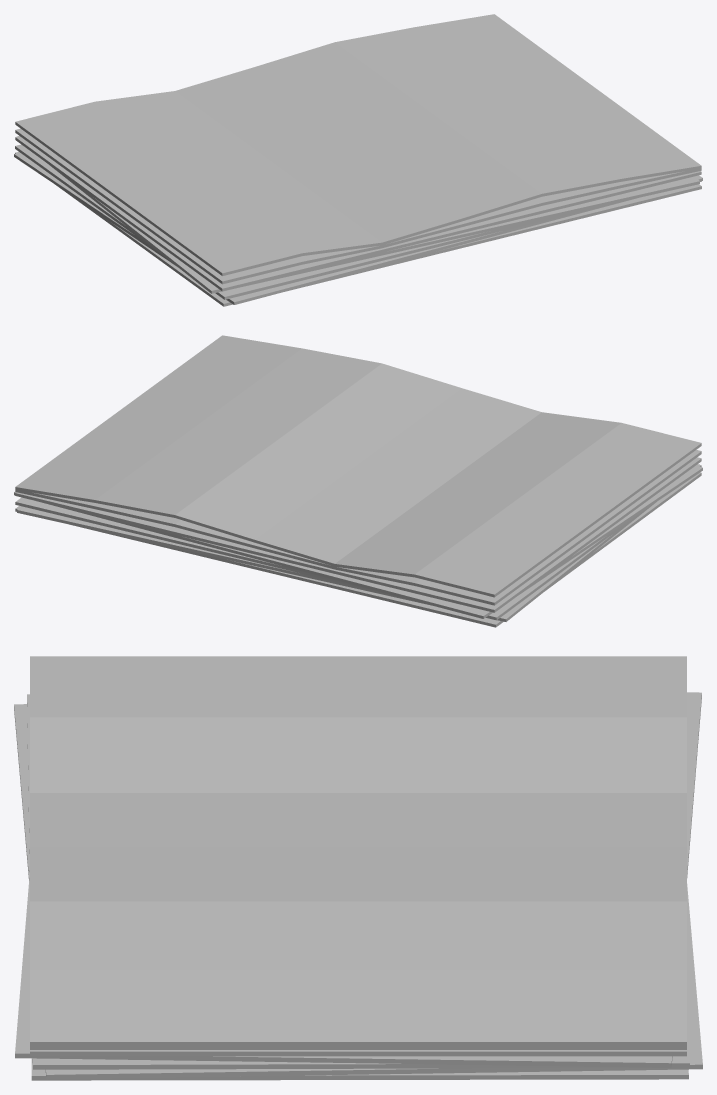
Rendered from Papirstak.fbx.
The picture shows the model from 3 angles, top to bottom: view 1: azimuth 30°, elevation 25°; view 2: azimuth 150°, elevation 25°; view 3: azimuth 270°, elevation 25°; orthographic projection. The views are drawn at different scales.
Parts seen in each view (by area): view 1: Papir.008; view 2: Papir.008; view 3: Papir.008.
Boxes of the visible parts, left/top/right/bottom form: Papir.008: left=14, top=14, right=702, bottom=306; Papir.008: left=14, top=335, right=702, bottom=627; Papir.008: left=14, top=656, right=702, bottom=1080.
Size of the model in its own units: 107 by 7.24 by 81.91.
